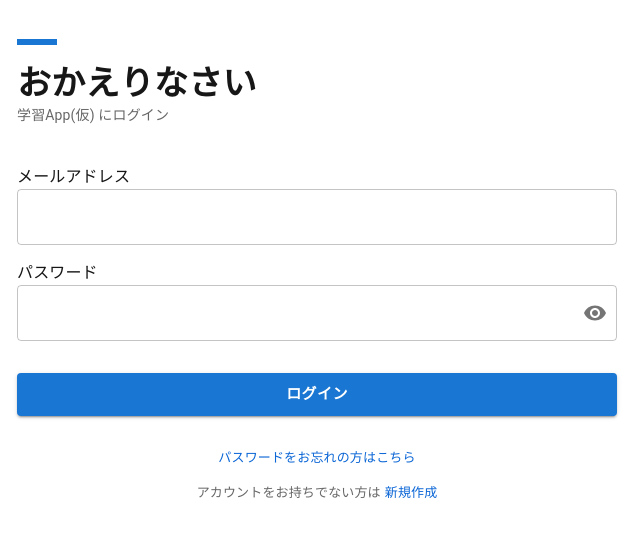
Test: Login › 未入力で送信すると必須エラーが表示され、送信されない
Click the button "ログイン" at [317, 395], box top-left (17, 373), bottom-right (617, 416)
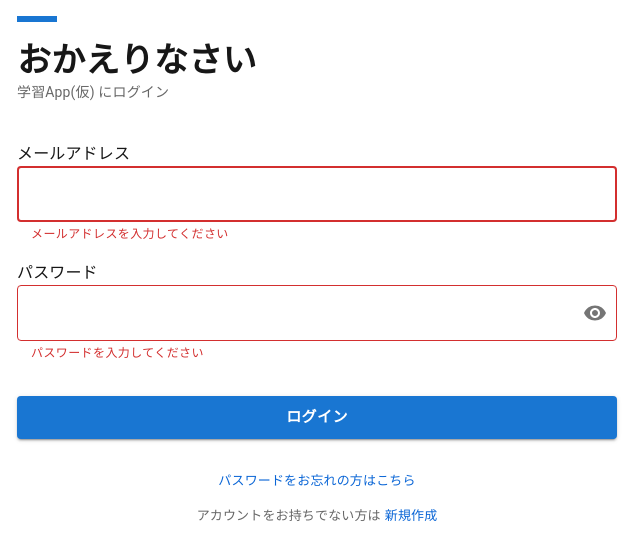
Expected: the text "メールアドレスを入力してください" is shown, top-left (31, 228), bottom-right (229, 242)
Expected: the text "パスワードを入力してください" is shown, top-left (31, 346), bottom-right (204, 360)
